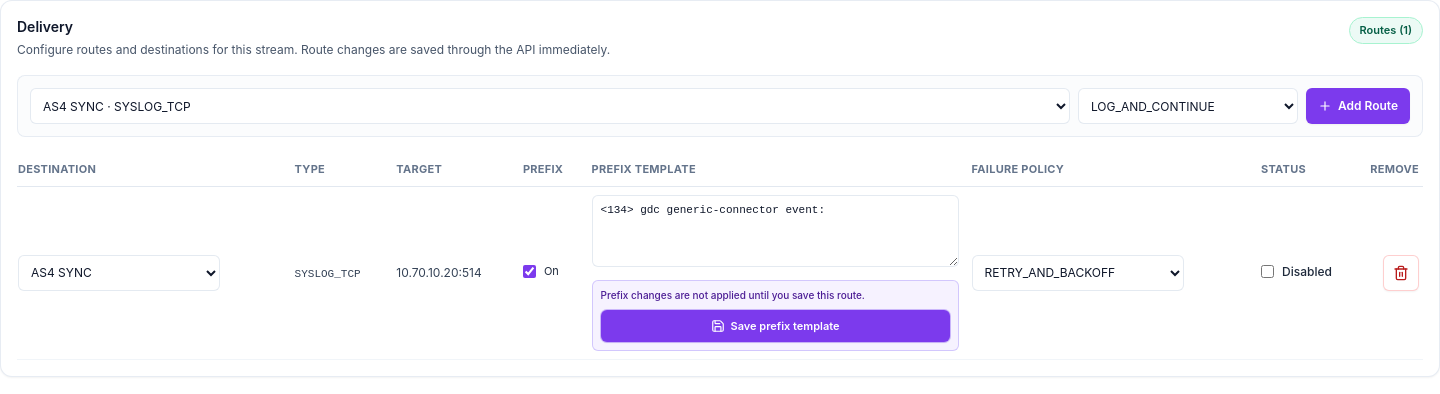
StreamEditDeliveryPanel route removal › removes the route row immediately after delete without waiting for a full page reload
This screenshot has width=1440, height=394.
Expected: the text "Routes (1)" is shown, [1349,17,1423,44]
Click the button named "Remove route".
click(1401, 273)  # box [1383,255,1419,291]
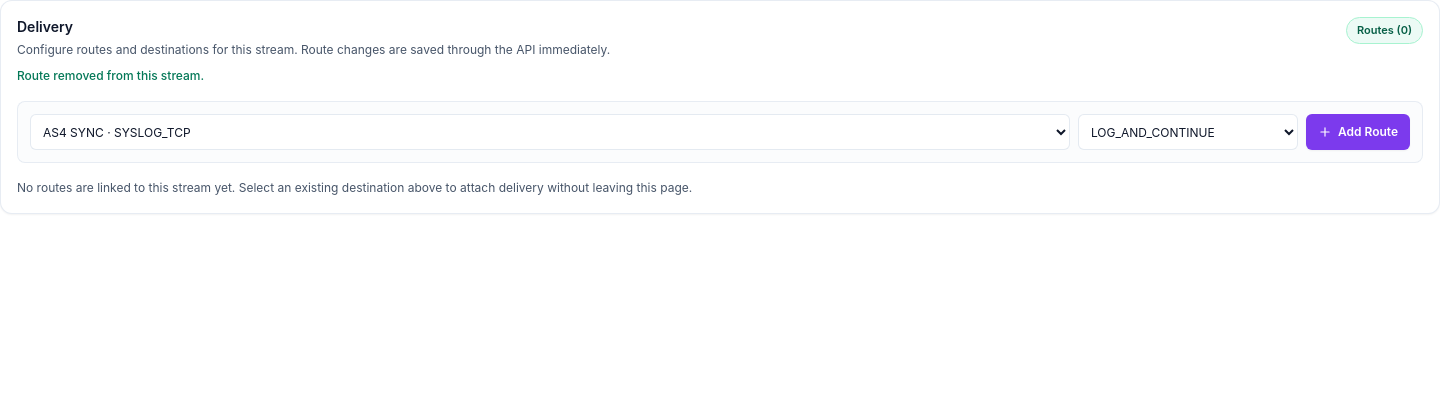
Expected: the text "Routes (0)" is shown, [1346,17,1423,44]
Expected: the text "Route removed from this stream." is shown, [17,68,204,83]
